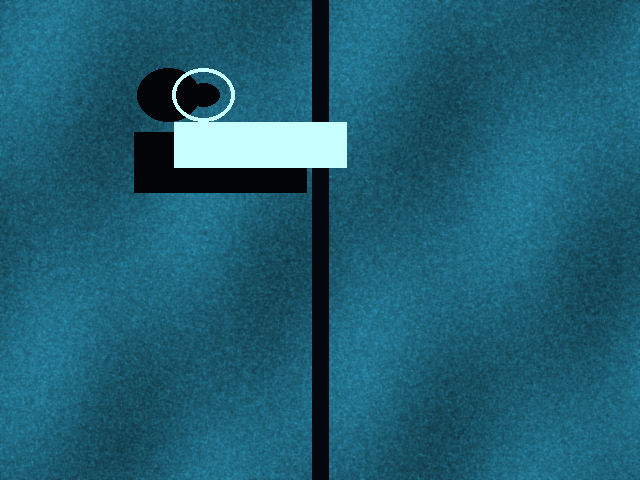Metal Object: (174, 122, 346, 167)
Tire: (172, 68, 234, 121)
